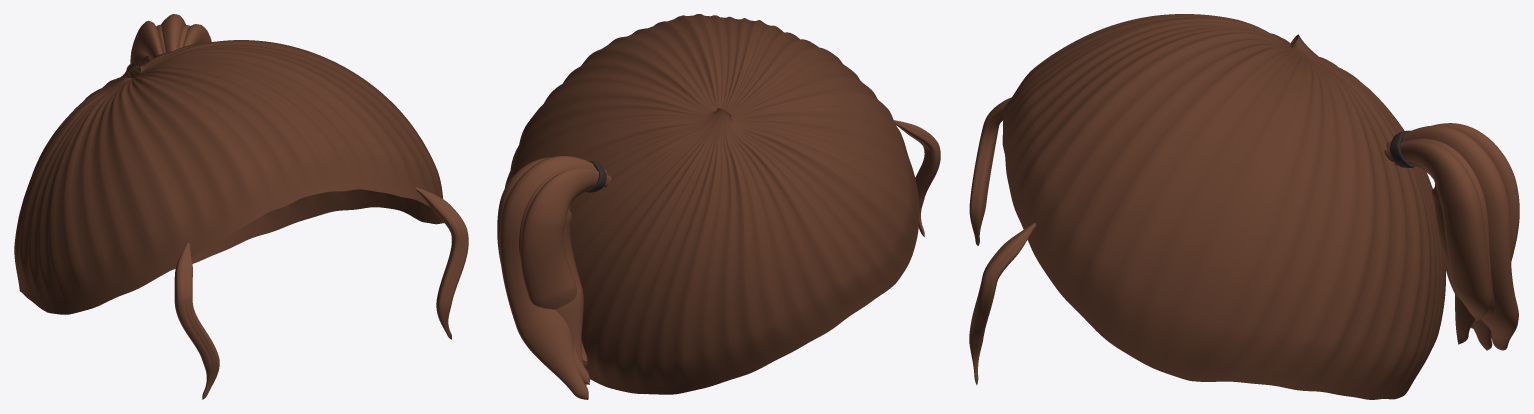
Rendered from ponytail-headband-default.glb.
3 views of the same model, side by side, from view 1: azimuth 30°, elevation 25°; view 2: azimuth 150°, elevation 25°; view 3: azimuth 270°, elevation 25° (orthographic). The views are drawn at different scales.
Parts seen in each view (by area): view 1: Hair / swept roots220, Hair / adjustable front216 1, Hair / adjustable front216 -1, Hair / rounded tail220 0, Hair / rounded tail220 2, Hair / rounded tail220 4; view 2: Hair / swept roots220, Hair / rounded tail220 2, Hair / rounded tail220 0, Hair / rounded tail220 1, Hair / adjustable front216 -1, Hair / rounded tail220 4; view 3: Hair / swept roots220, Hair / rounded tail220 4, Hair / rounded tail220 2, Hair / adjustable front216 1, Hair / rounded tail220 0, Hair / adjustable front216 -1, Hair / rounded tail220 3, Hair / rounded tail220 1.
Part boxes in pixels (x1,y1,x2,y2): Hair / swept roots220: [14, 40, 443, 314]; Hair / adjustable front216 1: [415, 187, 468, 339]; Hair / adjustable front216 -1: [174, 243, 219, 399]; Hair / rounded tail220 0: [130, 20, 162, 65]; Hair / rounded tail220 2: [161, 14, 185, 52]; Hair / rounded tail220 4: [183, 24, 211, 46]; Hair / swept roots220: [504, 14, 919, 394]; Hair / rounded tail220 2: [499, 156, 607, 399]; Hair / rounded tail220 0: [520, 168, 611, 368]; Hair / rounded tail220 1: [519, 167, 602, 385]; Hair / adjustable front216 -1: [893, 120, 940, 236]; Hair / rounded tail220 4: [497, 157, 587, 362]; Hair / swept roots220: [1002, 14, 1445, 399]; Hair / rounded tail220 4: [1384, 141, 1491, 328]; Hair / rounded tail220 2: [1386, 125, 1518, 350]; Hair / adjustable front216 1: [969, 223, 1035, 385]; Hair / rounded tail220 0: [1432, 123, 1519, 344]; Hair / adjustable front216 -1: [969, 97, 1011, 245]; Hair / rounded tail220 3: [1388, 138, 1494, 338]; Hair / rounded tail220 1: [1444, 155, 1495, 350].
Bounding box in the file's own units: 0.7726 × 0.5798 × 0.8505.
